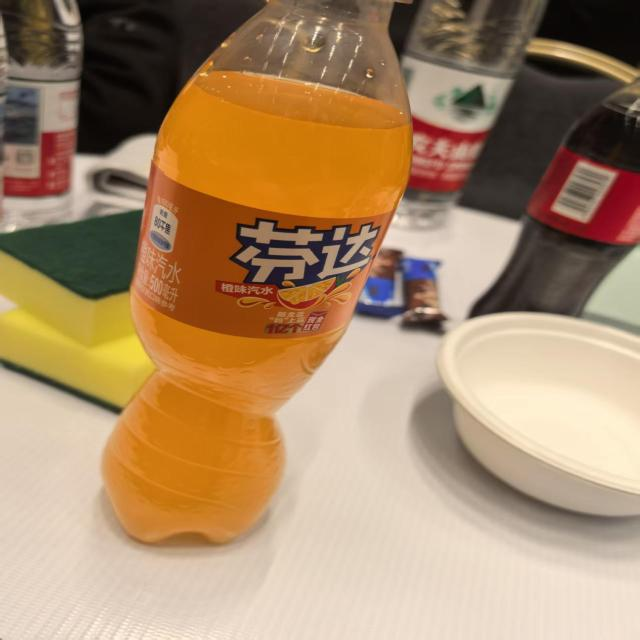orange: (208, 212, 386, 318)
